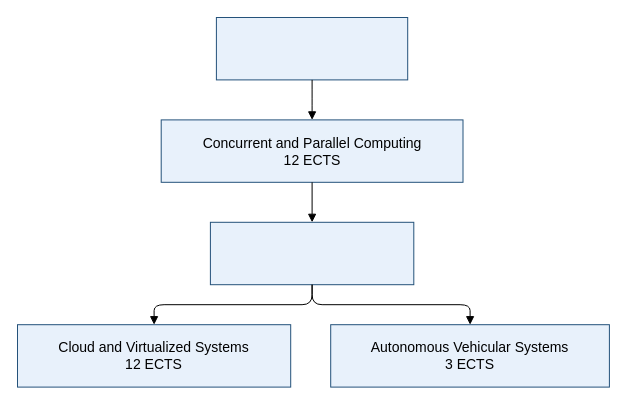
Some shapes in this 627 by 405 pixel diagram are drawn without their labels. Each missing label, with the centre of its shape:
Distributed Systems 12 ECTS: point (311, 253)
Operating Systems 12 ECTS: point (311, 48)
